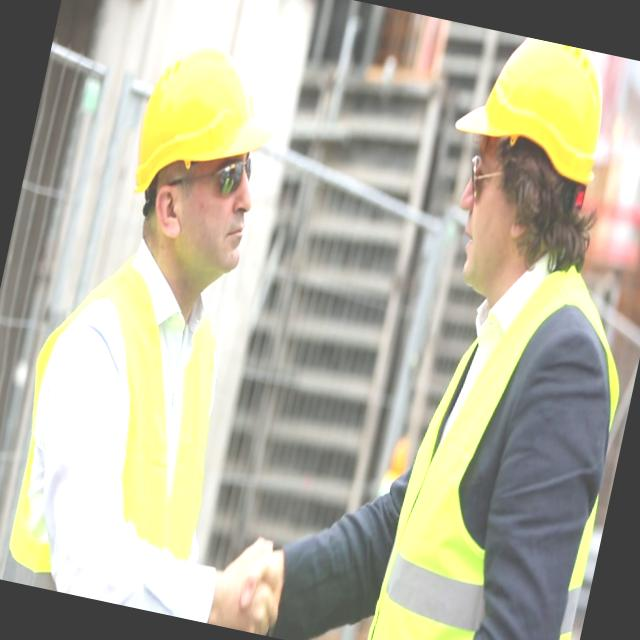goggles: (156, 133, 272, 220), (438, 136, 536, 223)
helmet: (114, 23, 298, 225), (439, 26, 628, 206)
vest: (366, 274, 640, 640), (13, 249, 248, 616)
